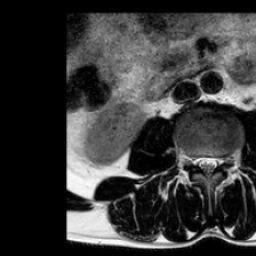CCS_normal: (203, 146, 211, 186)
LFS_normal: (220, 143, 229, 172)
LLS_normal: (211, 146, 220, 177)
RFS_normal: (185, 144, 194, 174)
RLS_normal: (194, 147, 203, 179)
